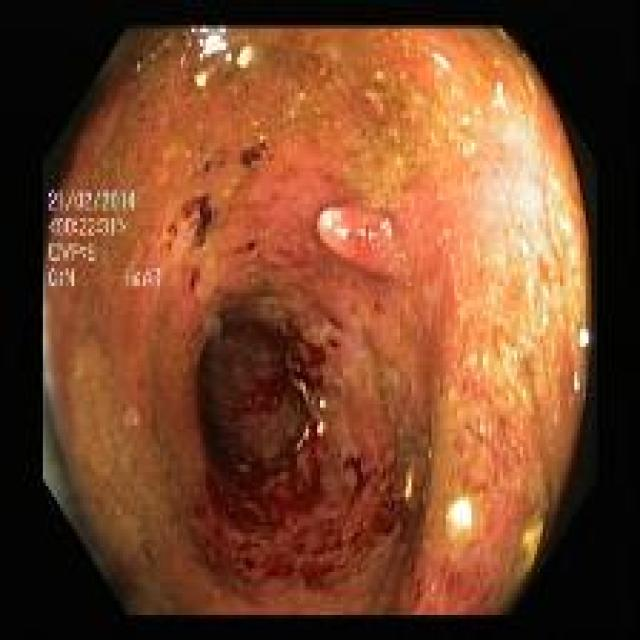ulcerative-colitis: (44, 28, 596, 615)
